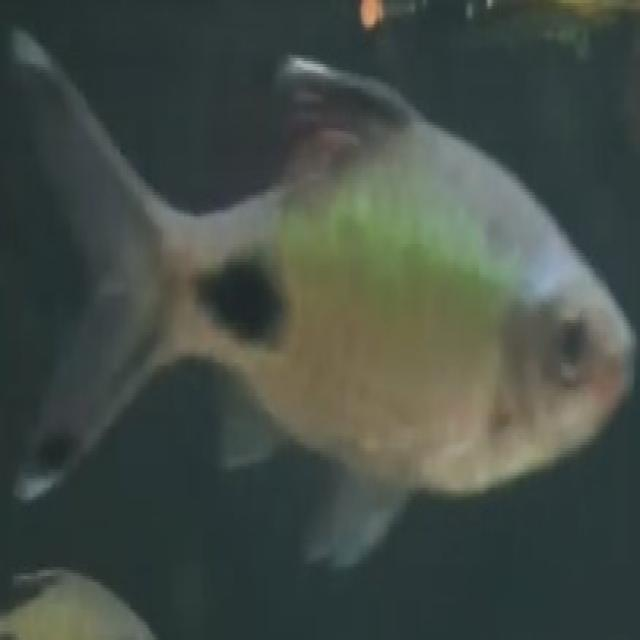Black-Spotted-Barb: (4, 32, 640, 571)
